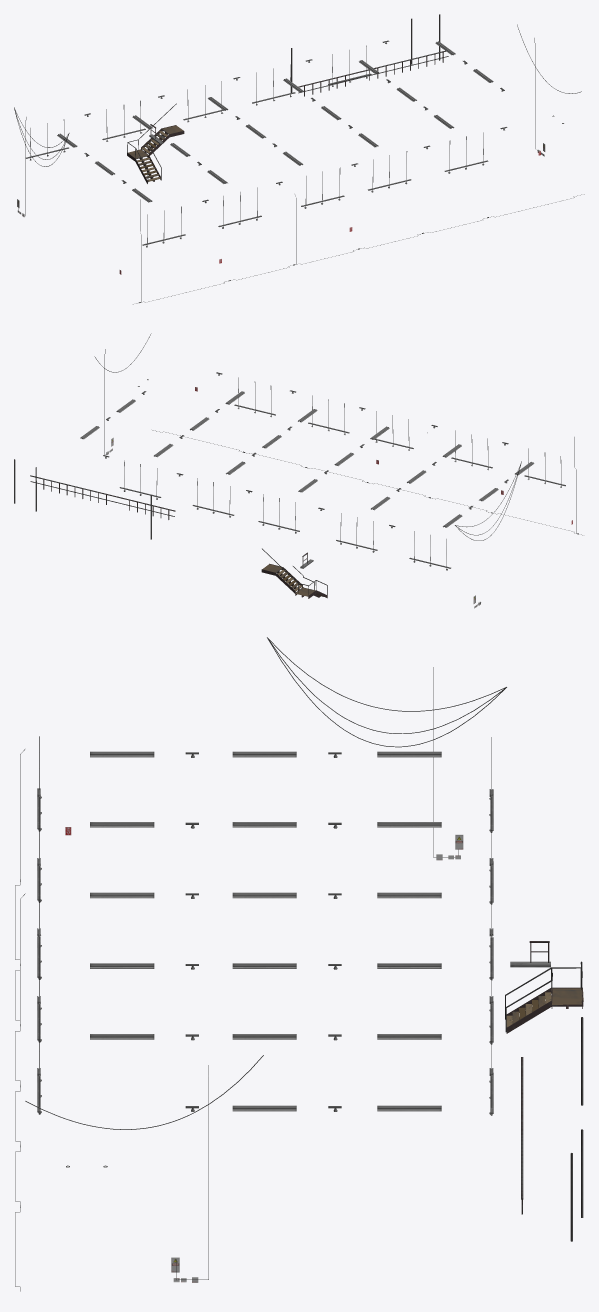
The model's file is SM_set_e.fbx.
The picture shows the model from 3 angles, top to bottom: view 1: azimuth 30°, elevation 25°; view 2: azimuth 150°, elevation 25°; view 3: azimuth 270°, elevation 25°; orthographic projection. The views are drawn at different scales.
Visible parts, largest first — view 1: SM_set_e; view 2: SM_set_e; view 3: SM_set_e.
Part boxes in pixels (x1,y1,x2,y2): SM_set_e: (14,14,584,304); SM_set_e: (14,333,582,608); SM_set_e: (15,637,583,1291).
Bounding box in the file's own units: 4006 × 1113 × 2272.
